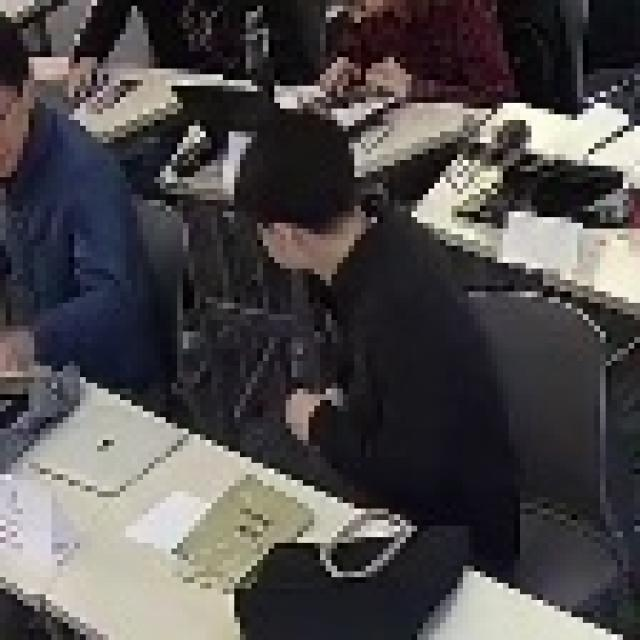trance: (224, 111, 517, 557)
